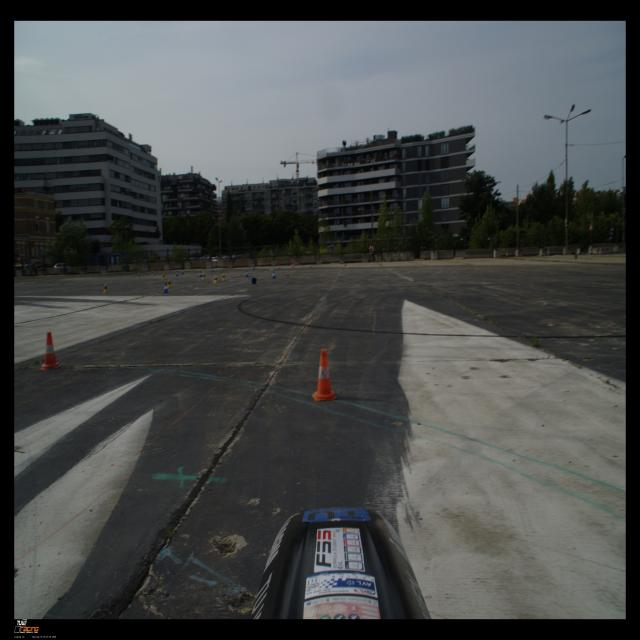blue_cone: (163, 282, 169, 294), (251, 277, 257, 284), (271, 271, 276, 279), (244, 270, 249, 277), (175, 270, 179, 276), (199, 270, 202, 278), (181, 269, 184, 275), (211, 267, 214, 273), (253, 265, 255, 270)
orange_cone: (312, 348, 338, 402), (40, 332, 61, 370), (277, 264, 280, 270), (291, 263, 294, 268)
yellow_cone: (103, 283, 109, 294), (167, 279, 172, 288), (221, 273, 226, 281), (214, 275, 218, 284), (161, 273, 166, 280), (201, 273, 206, 280), (136, 272, 140, 279), (151, 270, 154, 276), (202, 267, 205, 273), (251, 265, 254, 270)
